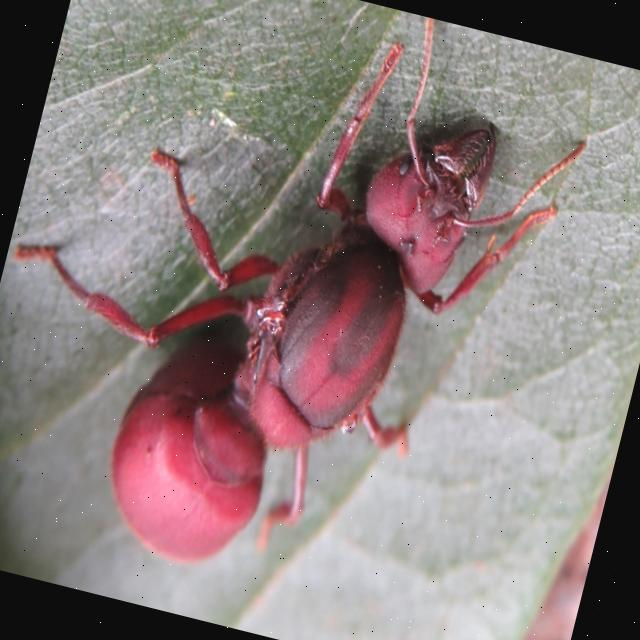Alive-Female-Dealate: (0, 0, 607, 634)
